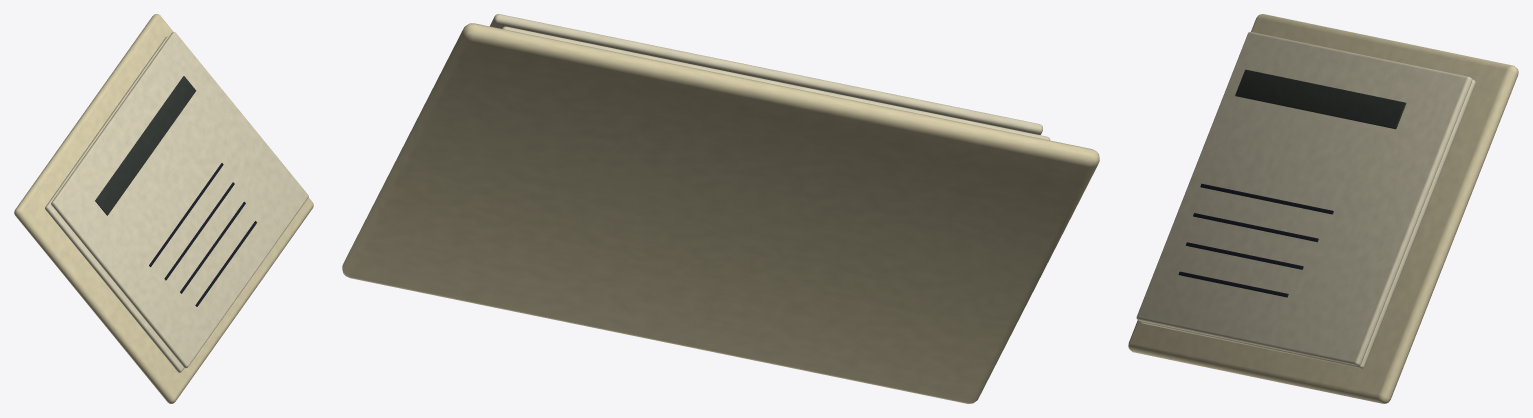
The picture shows the model from 3 angles, left to right: view 1: azimuth 30°, elevation 25°; view 2: azimuth 150°, elevation 25°; view 3: azimuth 270°, elevation 25°; orthographic projection. The views are drawn at different scales.
Parts seen in each view (by area): view 1: Folded document backing; view 2: Folded document backing; view 3: Folded document backing.
Boxes of the visible parts, box(x1,y1,x2,y2) form: Folded document backing: box(14, 14, 313, 403); Folded document backing: box(342, 14, 1099, 403); Folded document backing: box(1128, 14, 1518, 403).
Size of the model in its own units: 1.35 by 0.9884 by 0.9515.
Materials: 1 (1 with a texture image).
